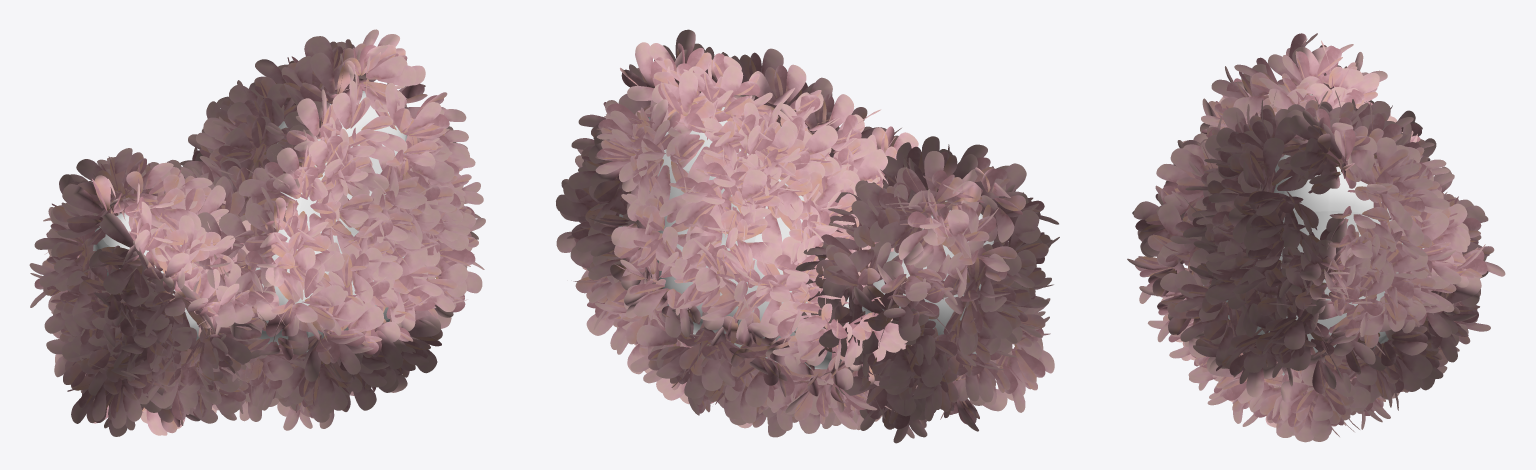
File: Mesh_FoliageEnsembleTree2.fbx
3 renders of one model, left to right at view 1: azimuth 30°, elevation 25°; view 2: azimuth 150°, elevation 25°; view 3: azimuth 270°, elevation 25°, orthographic. The views are drawn at different scales.
Visible parts, largest first — view 1: Plane076, Plane077, Box058, Box059; view 2: Plane076, Plane077, Box058, Box059; view 3: Plane076, Plane077, Box058.
Part boxes in pixels (x1,y1,x2,y2): Plane076: [140, 29, 485, 430]; Plane077: [29, 148, 269, 436]; Box058: [244, 90, 407, 352]; Box059: [93, 212, 209, 340]; Plane076: [556, 29, 927, 437]; Plane077: [794, 136, 1059, 443]; Box058: [618, 107, 849, 369]; Box059: [862, 200, 993, 354]; Plane076: [1127, 90, 1505, 442]; Plane077: [1173, 33, 1436, 165]; Box058: [1203, 154, 1424, 375].
Size of the model in its own units: 433 by 343 by 339.
